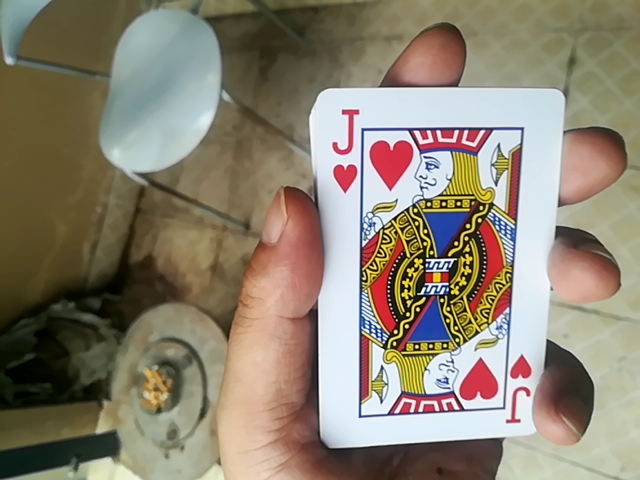hx j: (316, 77, 562, 453)
